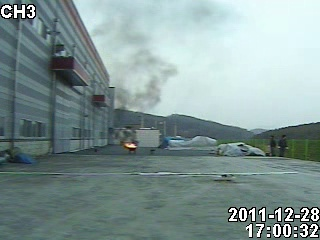fire: (122, 138, 136, 150)
smoke: (105, 58, 158, 129)
